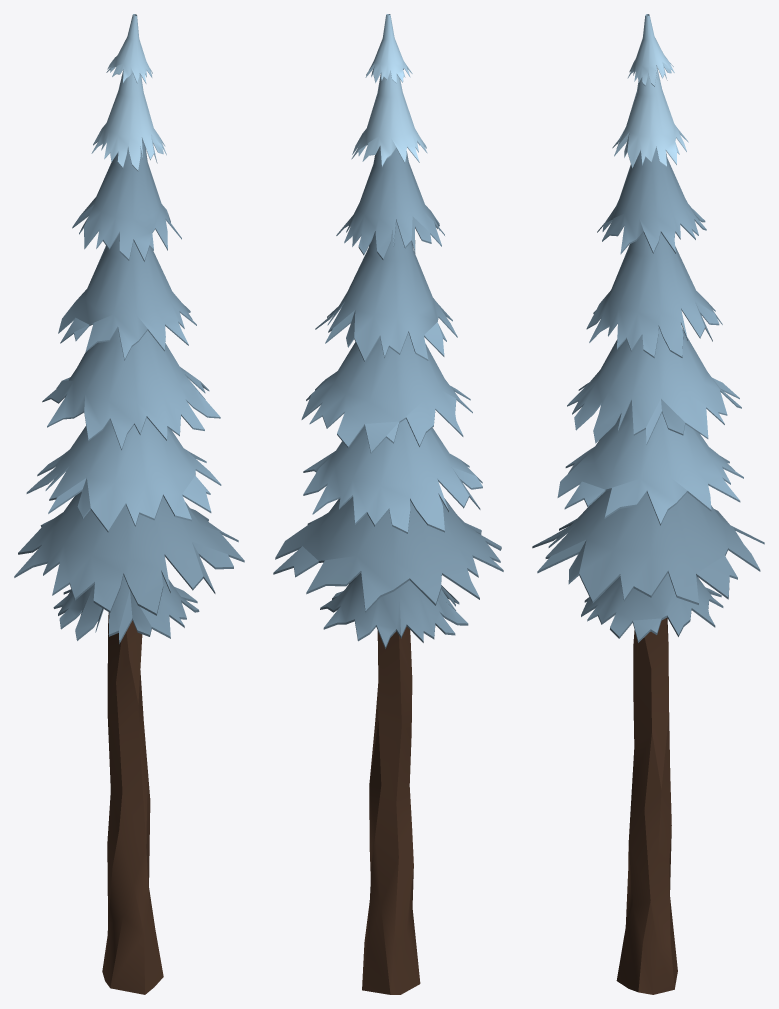
The model's file is GroßerBaum.fbx.
3 views of the same model, side by side, from view 1: azimuth 30°, elevation 25°; view 2: azimuth 150°, elevation 25°; view 3: azimuth 270°, elevation 25° (orthographic).
Parts seen in each view (by area): view 1: Circle; view 2: Circle; view 3: Circle.
Boxes of the visible parts, box(x1,y1,x2,y2) form: Circle: box(14, 14, 244, 994); Circle: box(273, 14, 503, 994); Circle: box(532, 14, 764, 994).
Bounding box in the file's own units: 996 × 4653 × 1008.
